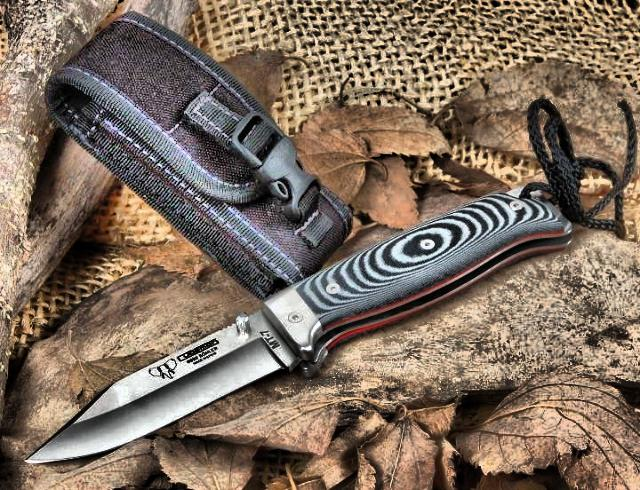knife: (18, 280, 338, 472)
